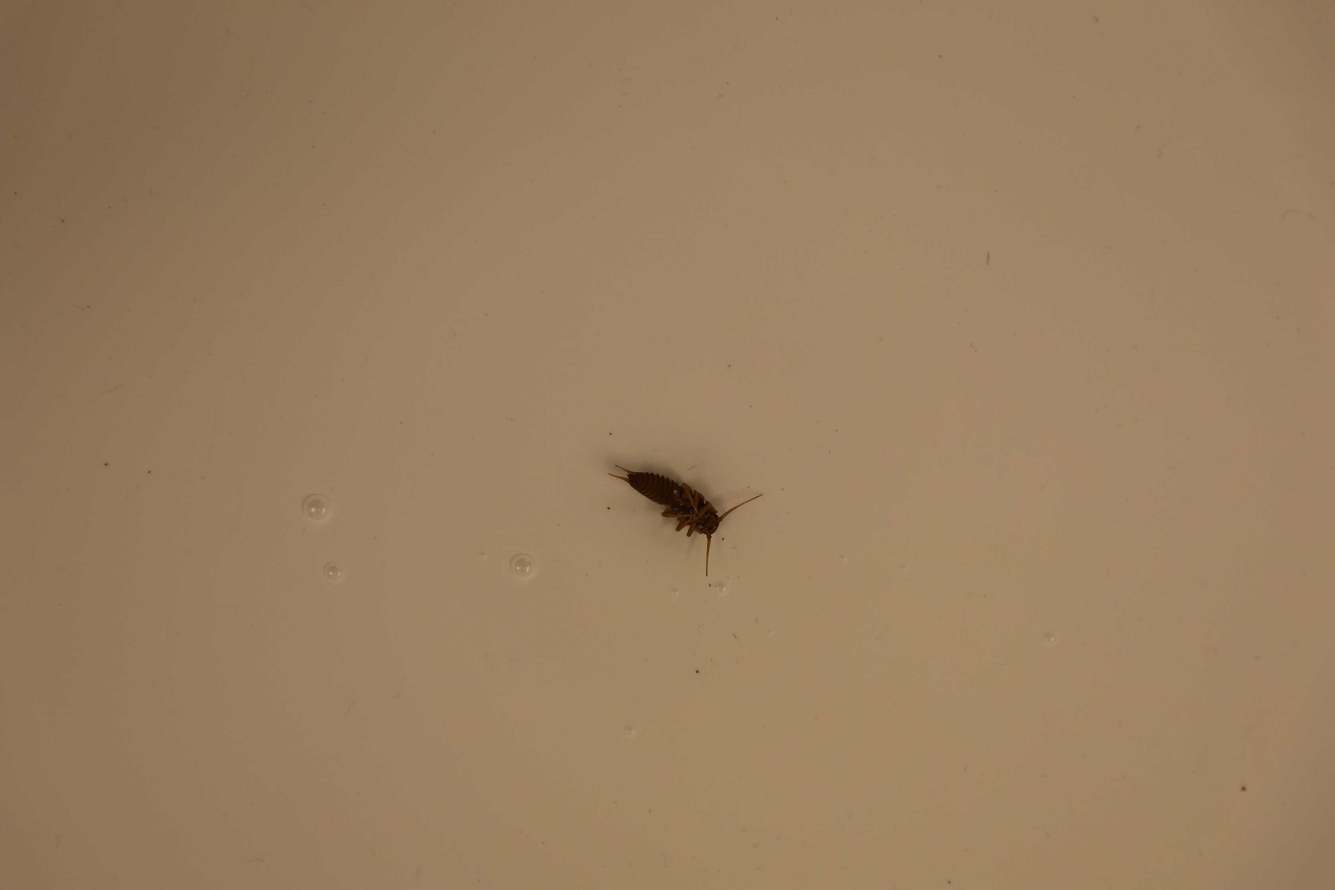Stonefly: (598, 454, 763, 586)
